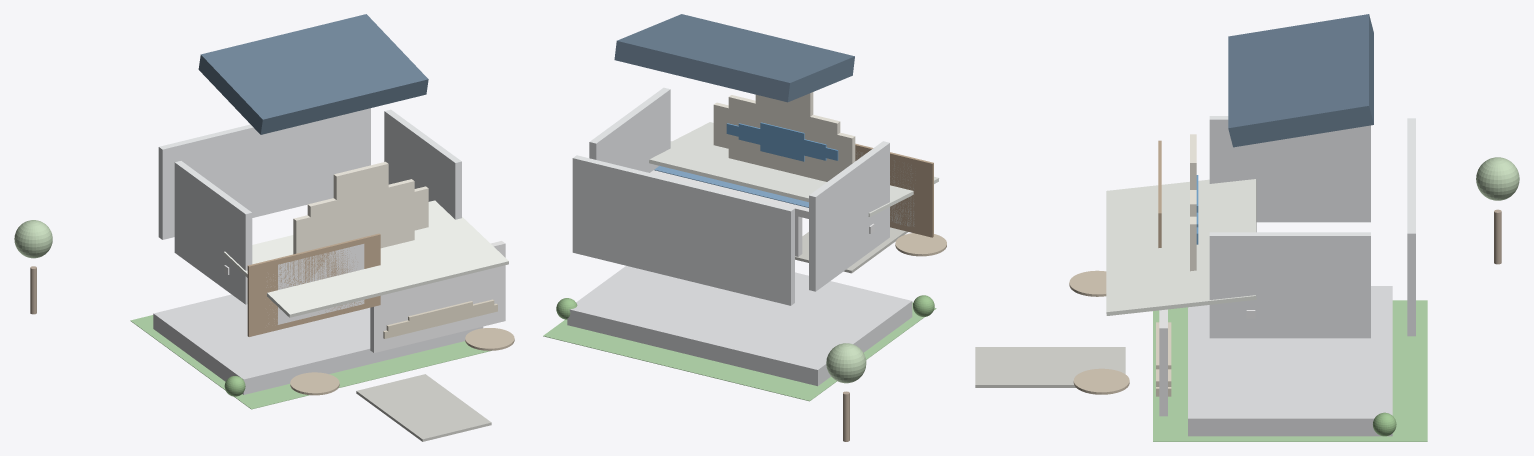
File: BUILDING_CAFE_COASTAL_001_LOD_MAP.glb
3 renders of one model, left to right at view 1: azimuth 30°, elevation 25°; view 2: azimuth 150°, elevation 25°; view 3: azimuth 270°, elevation 25°, orthographic. The views are drawn at different scales.
Visible parts, largest first — view 1: MOD_ROOF_GABLE_STANDARD_001.002, MOD_WALL_WEATHERBOARD_WHITE_001.008, MOD_FOUNDATION_STANDARD_RECT_001.002, MOD_WALL_WEATHERBOARD_WHITE_001.006, MOD_AWNING_COASTAL_CAFE_001_CORNER_RETURN_AWNING_MAP_CANOPY, MOD_SERVICE_WINDOW_CAFE_001_BAKERY_DISPLAY_COUNTER_OPENING_M (×2), MOD_WINDOW_RESIDENTIAL_LARGE_001_COASTAL_PANORAMIC_WINDOW_MA, MOD_PATH_STANDARD_001_MAP_SURFACE, MOD_WALL_WEATHERBOARD_WHITE_001.007, MOD_AWNING_COASTAL_CAFE_001_DEEP_SEATING_AWNING_MAP_CANOPY, MOD_GROUND_GRASS_STANDARD_001_MAP_PATCH, MOD_CAFE_SIGN_STANDARD_001_HANGING_CAFE_SIGN_MAP_PANEL (+12 smaller); view 2: MOD_FOUNDATION_STANDARD_RECT_001.002, MOD_WALL_WEATHERBOARD_WHITE_001.008, MOD_ROOF_GABLE_STANDARD_001.002, MOD_WALL_WEATHERBOARD_WHITE_001.006, MOD_GROUND_GRASS_STANDARD_001_MAP_PATCH, MOD_CAFE_SIGN_STANDARD_001_BAKERY_CAFE_SHARED_PANEL_MAP_PANE, MOD_WALL_WEATHERBOARD_WHITE_001.007, MOD_AWNING_COASTAL_CAFE_001_CORNER_RETURN_AWNING_MAP_CANOPY, MOD_WINDOW_RESIDENTIAL_LARGE_001_COASTAL_PANORAMIC_WINDOW_MA, MOD_AWNING_COASTAL_CAFE_001_DEEP_SEATING_AWNING_MAP_CANOPY, MOD_CAFE_SIGN_STANDARD_001_VERTICAL_SIDE_SIGN_MAP_PANEL, MOD_CAFE_SIGN_STANDARD_001_WALL_FASCIA_SIGN_MAP_PANEL (+10 smaller); view 3: MOD_FOUNDATION_STANDARD_RECT_001.002, MOD_WALL_WEATHERBOARD_WHITE_001.007, MOD_ROOF_GABLE_STANDARD_001.002, MOD_WALL_WEATHERBOARD_WHITE_001.006, MOD_AWNING_COASTAL_CAFE_001_STRIPED_COASTAL_AWNING_MAP_CANOP, MOD_GROUND_GRASS_STANDARD_001_MAP_PATCH, MOD_PATH_STANDARD_001_MAP_SURFACE, MOD_AWNING_COASTAL_CAFE_001_DEEP_SEATING_AWNING_MAP_CANOPY, MOD_WALL_WEATHERBOARD_WHITE_001.008, MOD_TREE_EUCALYPTUS_STANDARD_001_MAP_CANOPY, MOD_AWNING_COASTAL_CAFE_001_SHALLOW_CAFE_AWNING_MAP_CANOPY, MOD_SERVICE_WINDOW_CAFE_001_BAKERY_DISPLAY_COUNTER_OPENING_M (+2 smaller).
Part boxes in pixels (x1,y1,x2,y2): MOD_ROOF_GABLE_STANDARD_001.002: (198,14,428,134); MOD_WALL_WEATHERBOARD_WHITE_001.008: (158,108,370,239); MOD_FOUNDATION_STANDARD_RECT_001.002: (153,294,483,394); MOD_WALL_WEATHERBOARD_WHITE_001.006: (174,161,252,304); MOD_AWNING_COASTAL_CAFE_001_CORNER_RETURN_AWNING_MAP_CANOPY: (252,205,497,308); MOD_SERVICE_WINDOW_CAFE_001_BAKERY_DISPLAY_COUNTER_OPENING_M (×2): (370,241,505,352); MOD_WINDOW_RESIDENTIAL_LARGE_001_COASTAL_PANORAMIC_WINDOW_MA: (247,233,380,336); MOD_PATH_STANDARD_001_MAP_SURFACE: (356,374,491,441); MOD_WALL_WEATHERBOARD_WHITE_001.007: (384,109,461,219); MOD_AWNING_COASTAL_CAFE_001_DEEP_SEATING_AWNING_MAP_CANOPY: (223,200,508,317); MOD_GROUND_GRASS_STANDARD_001_MAP_PATCH: (130,315,491,409); MOD_CAFE_SIGN_STANDARD_001_HANGING_CAFE_SIGN_MAP_PANEL: (324,191,400,246); MOD_FOUNDATION_STANDARD_RECT_001.002: (567,265,912,386); MOD_WALL_WEATHERBOARD_WHITE_001.008: (572,155,794,305); MOD_ROOF_GABLE_STANDARD_001.002: (614,14,854,102); MOD_WALL_WEATHERBOARD_WHITE_001.006: (809,141,889,291); MOD_GROUND_GRASS_STANDARD_001_MAP_PATCH: (543,302,936,401); MOD_CAFE_SIGN_STANDARD_001_BAKERY_CAFE_SHARED_PANEL_MAP_PANE: (728,95,840,181); MOD_WALL_WEATHERBOARD_WHITE_001.007: (589,87,670,172); MOD_AWNING_COASTAL_CAFE_001_CORNER_RETURN_AWNING_MAP_CANOPY: (654,126,904,197); MOD_WINDOW_RESIDENTIAL_LARGE_001_COASTAL_PANORAMIC_WINDOW_MA: (855,143,933,237); MOD_AWNING_COASTAL_CAFE_001_DEEP_SEATING_AWNING_MAP_CANOPY: (649,122,939,216); MOD_CAFE_SIGN_STANDARD_001_VERTICAL_SIDE_SIGN_MAP_PANEL: (755,92,813,177); MOD_CAFE_SIGN_STANDARD_001_WALL_FASCIA_SIGN_MAP_PANEL: (713,102,855,174); MOD_FOUNDATION_STANDARD_RECT_001.002: (1188,286,1392,436); MOD_WALL_WEATHERBOARD_WHITE_001.007: (1209,232,1370,338); MOD_ROOF_GABLE_STANDARD_001.002: (1228,14,1373,147); MOD_WALL_WEATHERBOARD_WHITE_001.006: (1209,116,1370,222); MOD_AWNING_COASTAL_CAFE_001_STRIPED_COASTAL_AWNING_MAP_CANOP: (1122,180,1239,306); MOD_GROUND_GRASS_STANDARD_001_MAP_PATCH: (1153,300,1427,441); MOD_PATH_STANDARD_001_MAP_SURFACE: (975,347,1125,387); MOD_AWNING_COASTAL_CAFE_001_DEEP_SEATING_AWNING_MAP_CANOPY: (1106,179,1256,315); MOD_WALL_WEATHERBOARD_WHITE_001.008: (1407,118,1415,336); MOD_TREE_EUCALYPTUS_STANDARD_001_MAP_CANOPY: (1476,157,1519,200); MOD_AWNING_COASTAL_CAFE_001_SHALLOW_CAFE_AWNING_MAP_CANOPY: (1133,259,1209,302); MOD_SERVICE_WINDOW_CAFE_001_BAKERY_DISPLAY_COUNTER_OPENING_M: (1159,309,1167,416).
Size of the model in its own units: 8.32 by 6.38 by 10.1.
